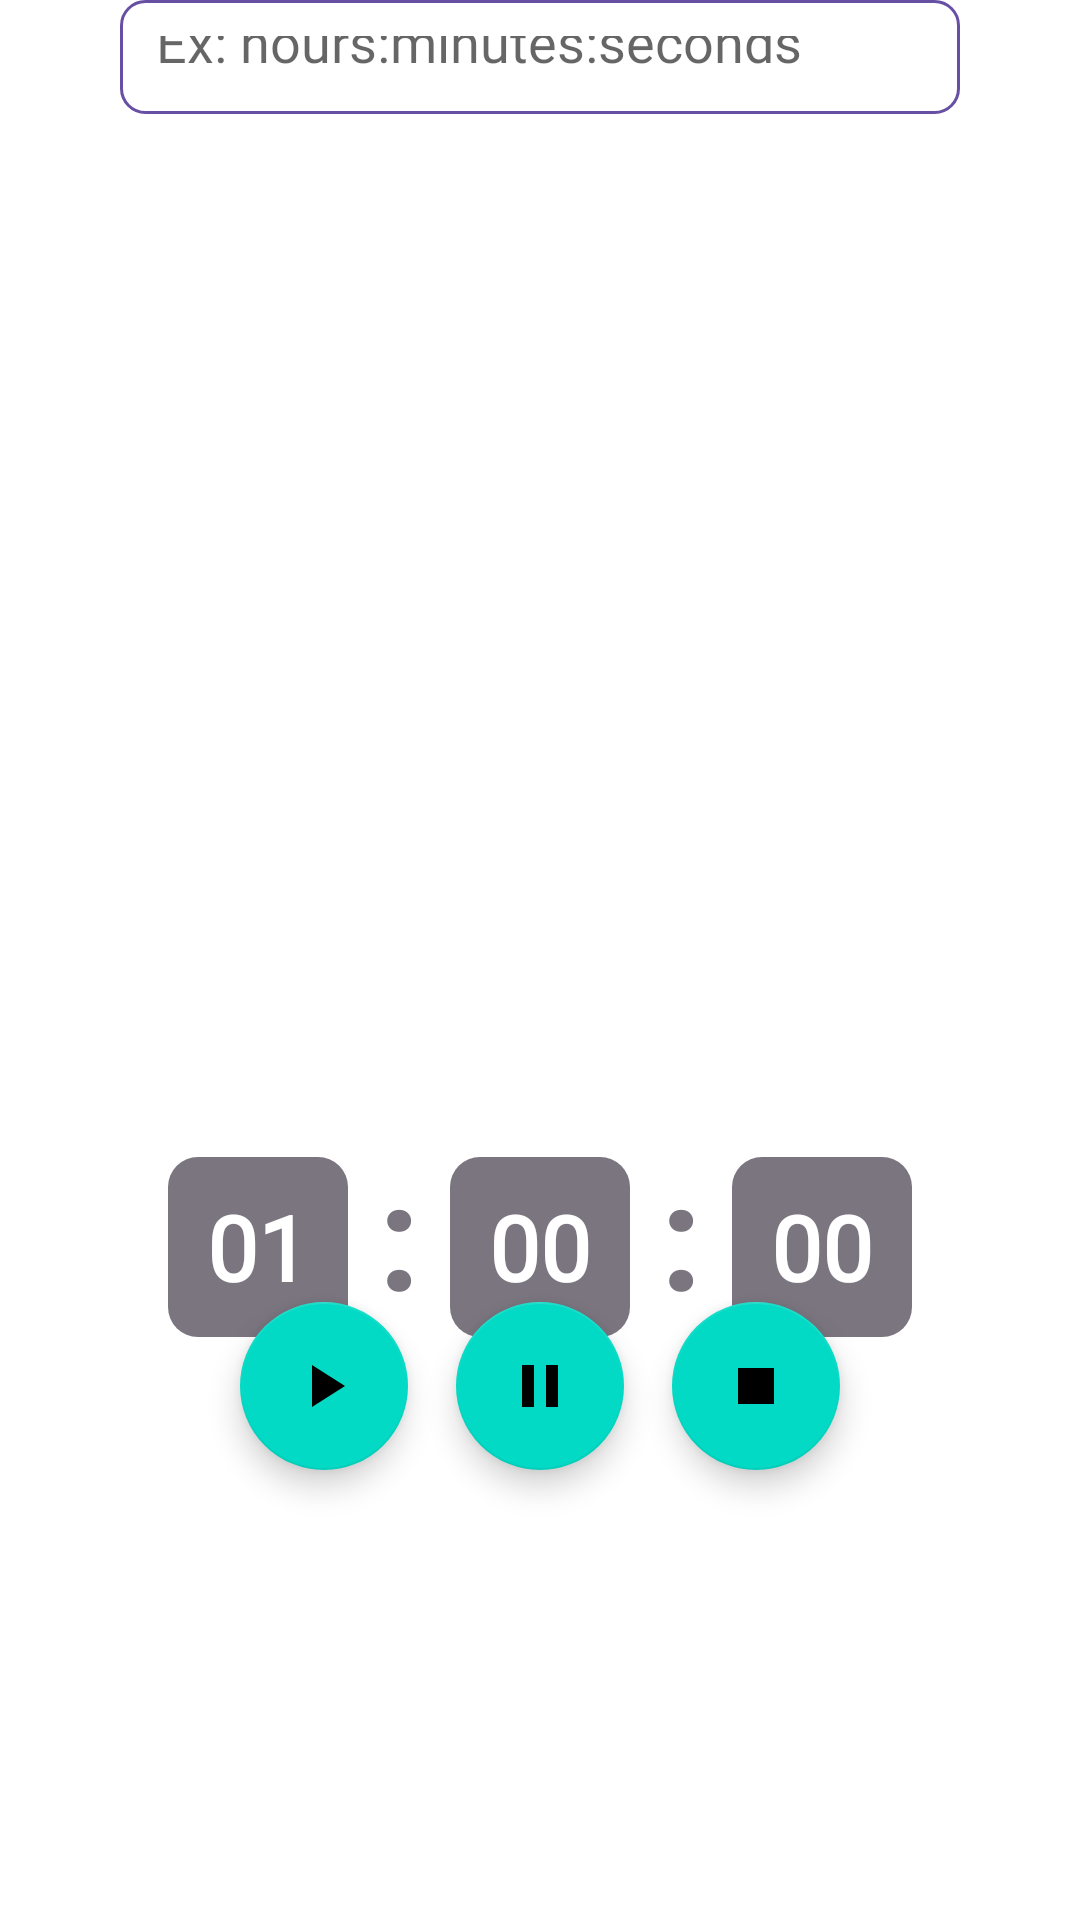

Where to tap for icons on this 1080px x 1920px app screen, as (x,y):
pause: (540,1386)
play: (324,1386)
stop: (756,1386)
